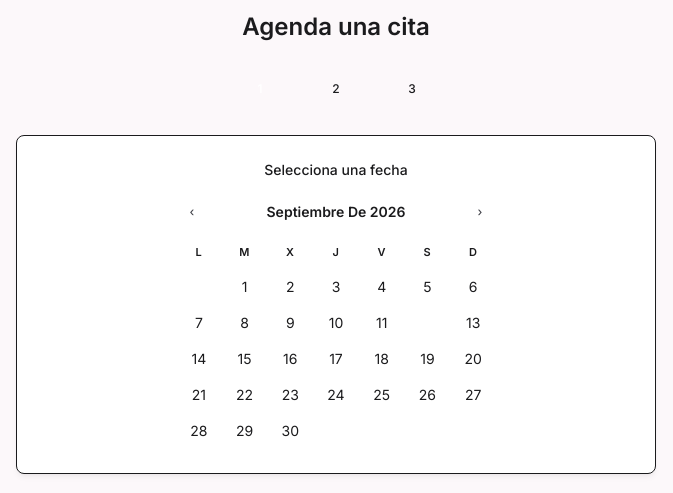
it: CalendarioPage › shows selection hint when date has no slots
What coordinates should you click on to do the following:
click the button "15"
I would click on:
 (245, 358)
Its box is [224,342,265,374].
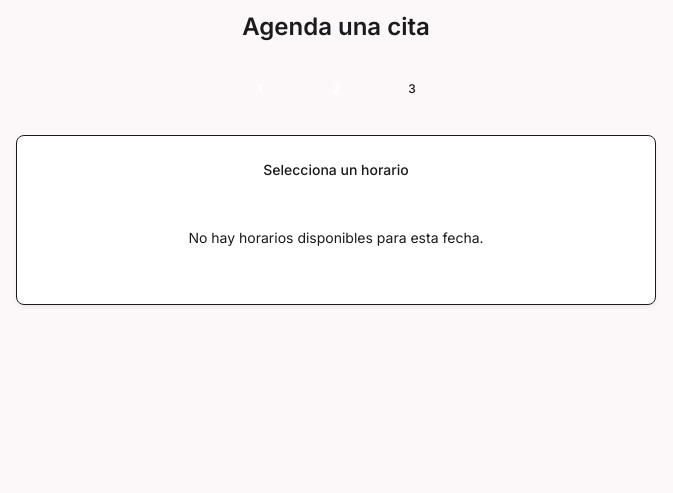
Result: the text "No hay horarios disponibles para esta fecha." is shown at [188,229,484,246]
